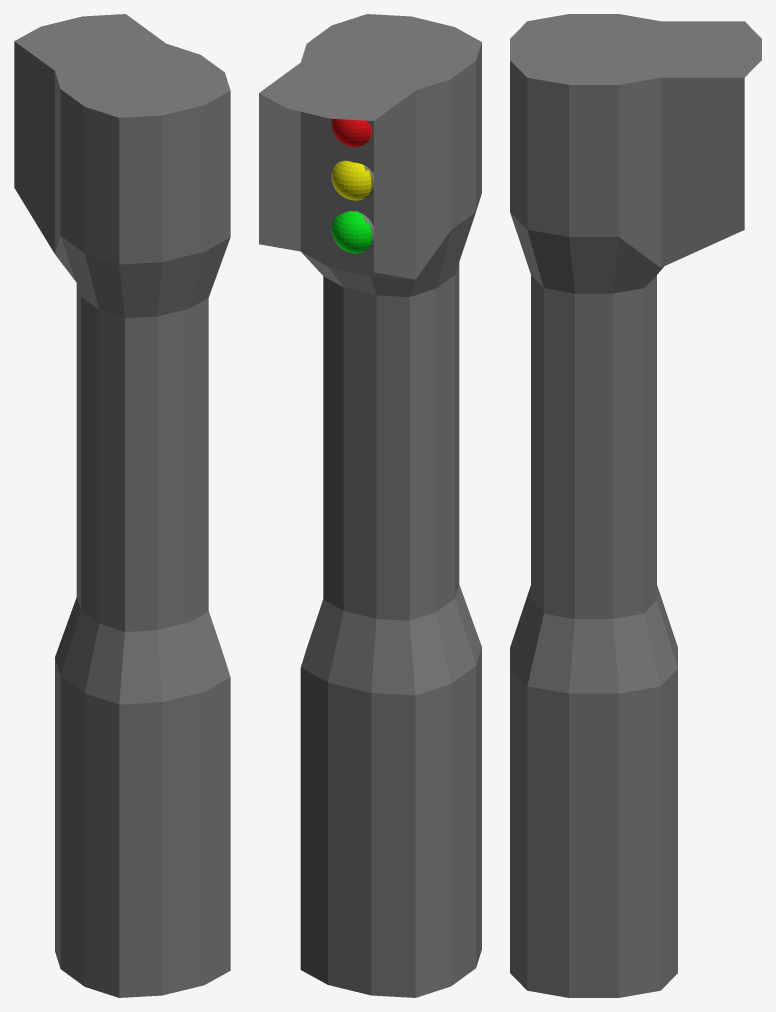
File: semaforo.fbx
3 views of the same model, side by side, from view 1: azimuth 30°, elevation 25°; view 2: azimuth 150°, elevation 25°; view 3: azimuth 270°, elevation 25° (orthographic). The views are drawn at different scales.
Parts seen in each view (by area): view 1: Semaforo; view 2: Semaforo; view 3: Semaforo.
Part boxes in pixels (<box>): Semaforo: <box>14,14,230,997</box>; Semaforo: <box>259,14,481,997</box>; Semaforo: <box>510,14,761,997</box>.
Size of the model in its own units: 100 by 600 by 150.
